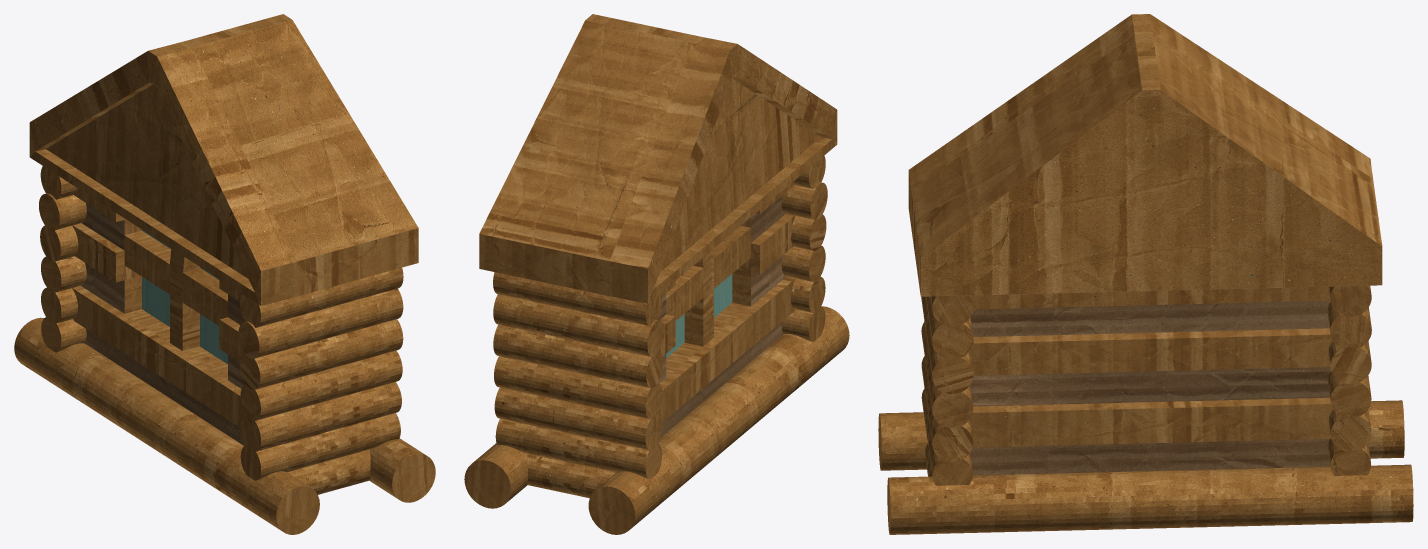
The model's file is domik.fbx.
3 views of the same model, side by side, from view 1: azimuth 30°, elevation 25°; view 2: azimuth 150°, elevation 25°; view 3: azimuth 270°, elevation 25° (orthographic). The views are drawn at different scales.
Visible parts, largest first — view 1: domik.001; view 2: domik.001; view 3: domik.001.
Part boxes in pixels (<box>): domik.001: <box>14,14,435,534</box>; domik.001: <box>464,14,849,534</box>; domik.001: <box>878,14,1413,534</box>.
Size of the model in its own units: 2751 by 5561 by 6135.
3 materials, 3 textured.
